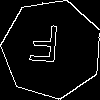F: (26, 24, 61, 73)
